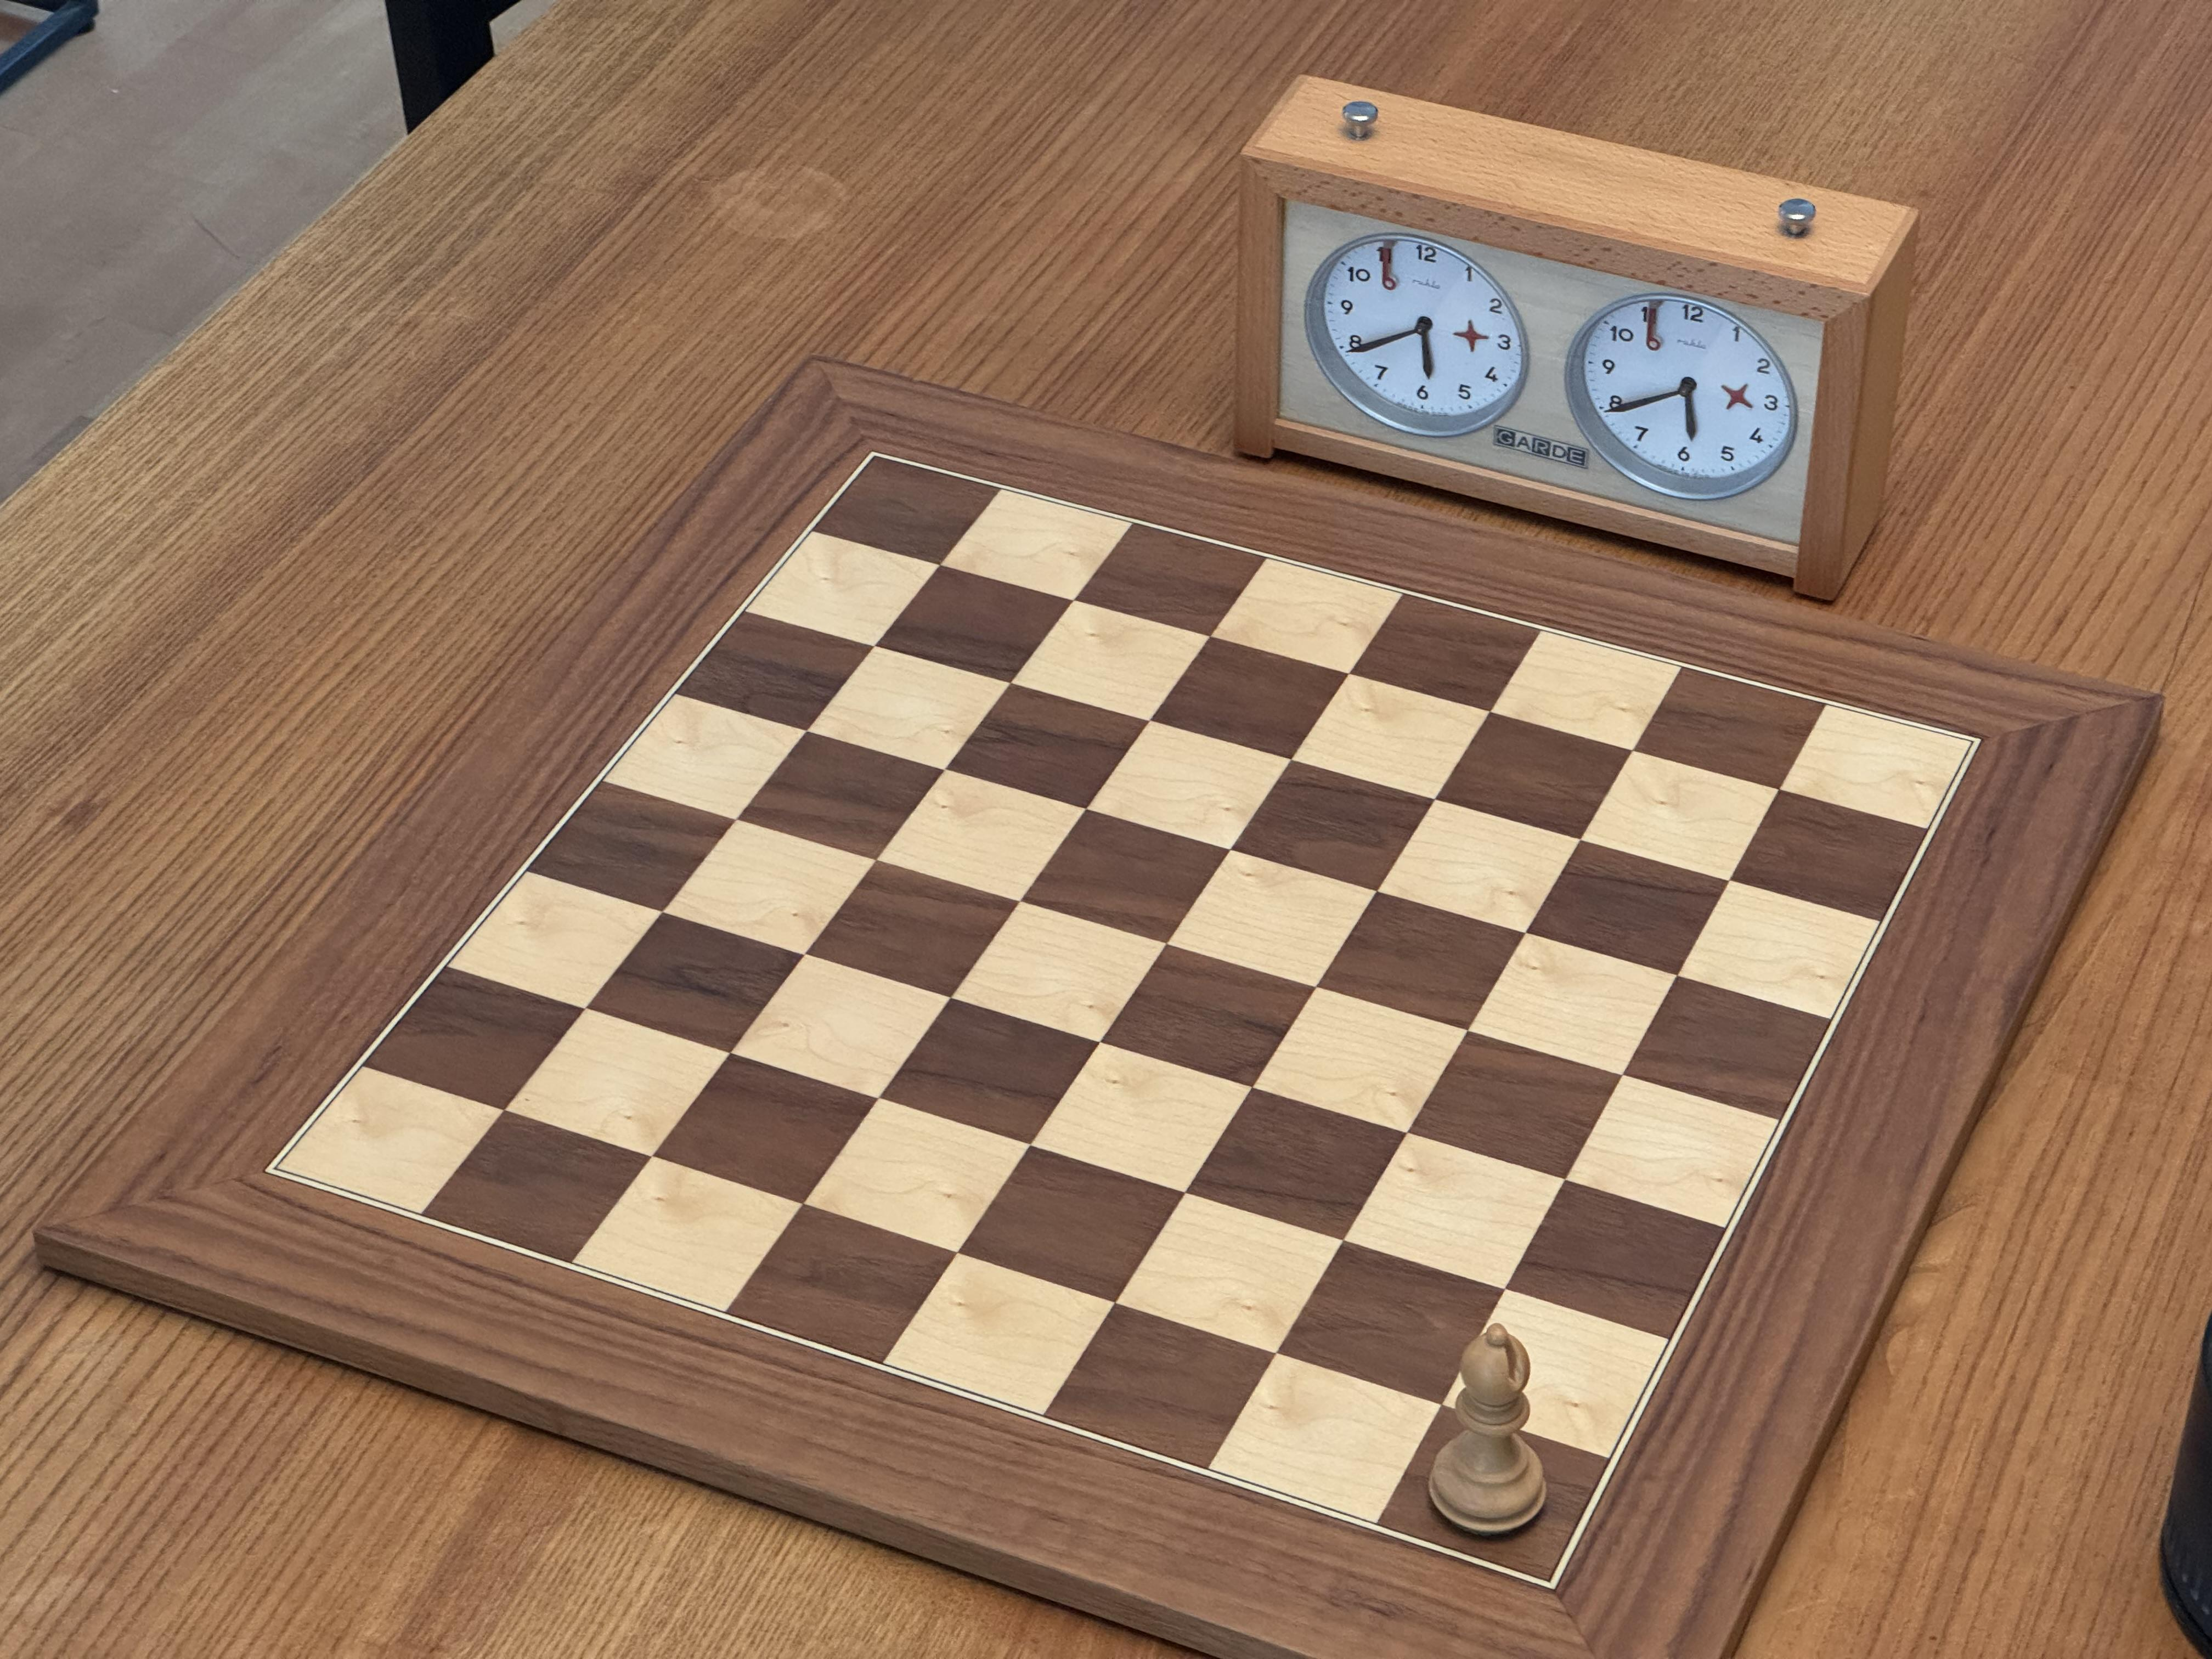White Bishop: (1423, 1319, 1552, 1544)
